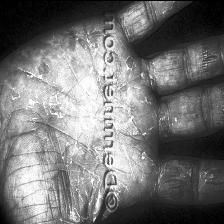Non-Cancerous Skin Condition: (18, 33, 224, 199)
